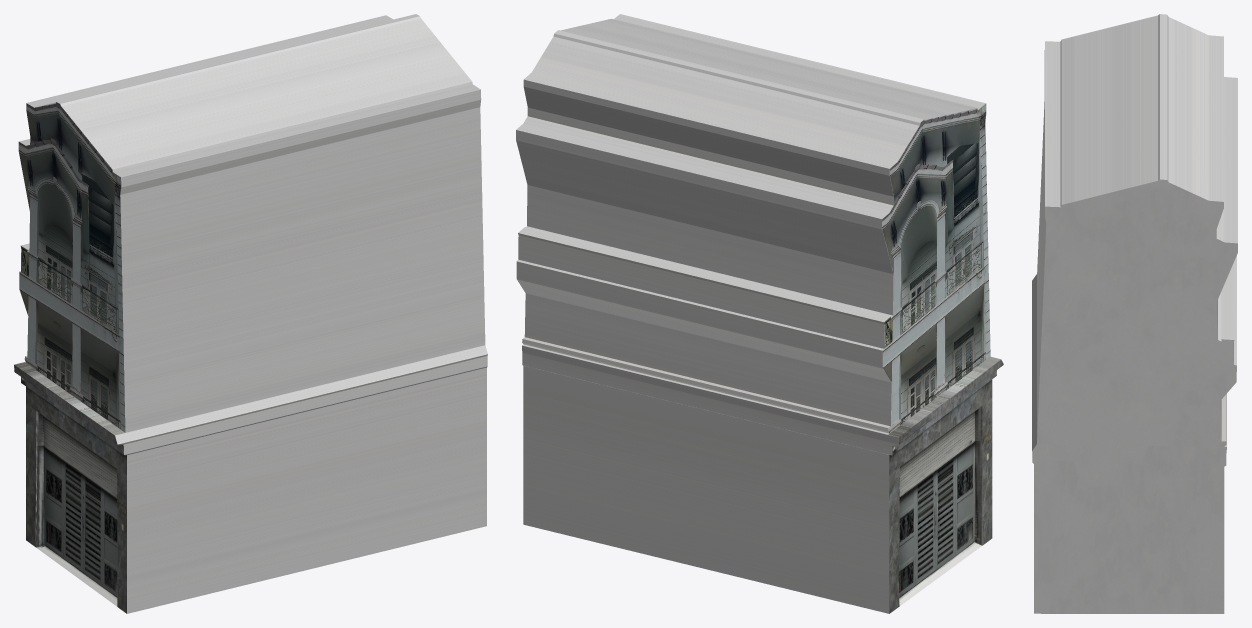
Rendered from RefHouse14.fbx.
3 views of the same model, side by side, from view 1: azimuth 30°, elevation 25°; view 2: azimuth 150°, elevation 25°; view 3: azimuth 270°, elevation 25° (orthographic). The views are drawn at different scales.
Visible parts, largest first — view 1: ReferenceHouse14; view 2: ReferenceHouse14; view 3: ReferenceHouse14.
Part boxes in pixels (left/top/right/bottom): ReferenceHouse14: left=14, top=14, right=487, bottom=613; ReferenceHouse14: left=516, top=14, right=1003, bottom=613; ReferenceHouse14: left=1032, top=14, right=1237, bottom=613.
Size of the model in its own units: 1009 by 1200 by 516.
Materials: 2 (2 with a texture image).
